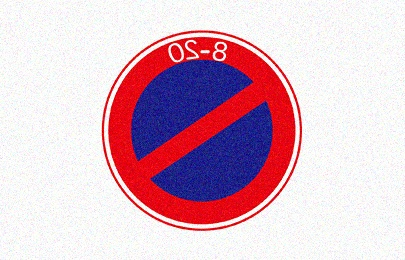Prohibition_sign: (96, 17, 319, 247)
